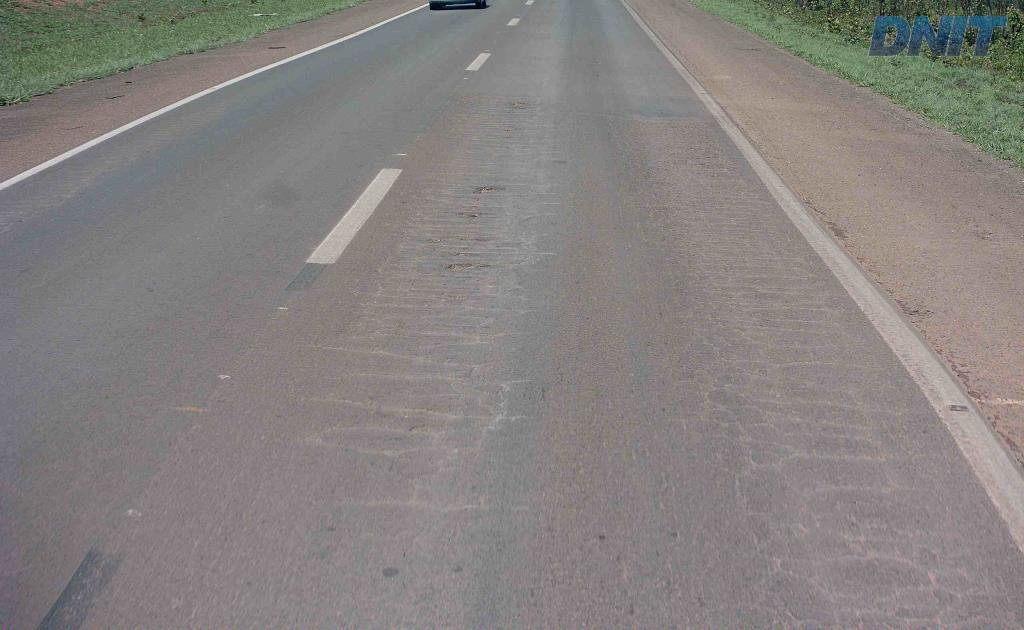pothole: (434, 255, 491, 276), (466, 174, 504, 195)
